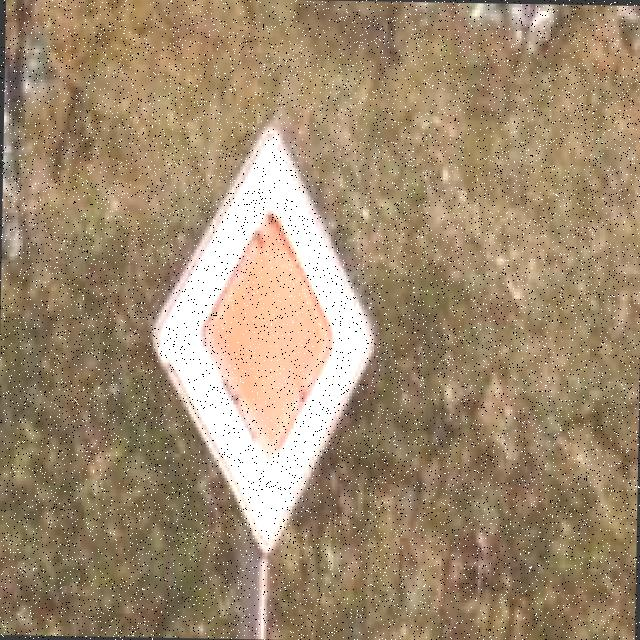Droga z pierwszenstwem: (146, 124, 377, 554)
